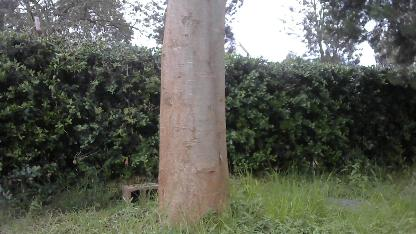tree: (156, 0, 233, 234)
